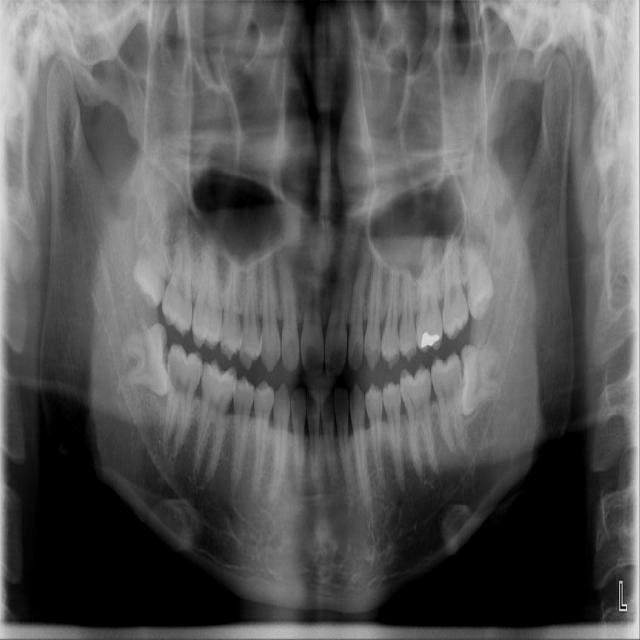Filling: (419, 332, 440, 350)
impacted tooth: (134, 185, 167, 305), (115, 325, 171, 394), (459, 344, 506, 419), (460, 234, 493, 318)
